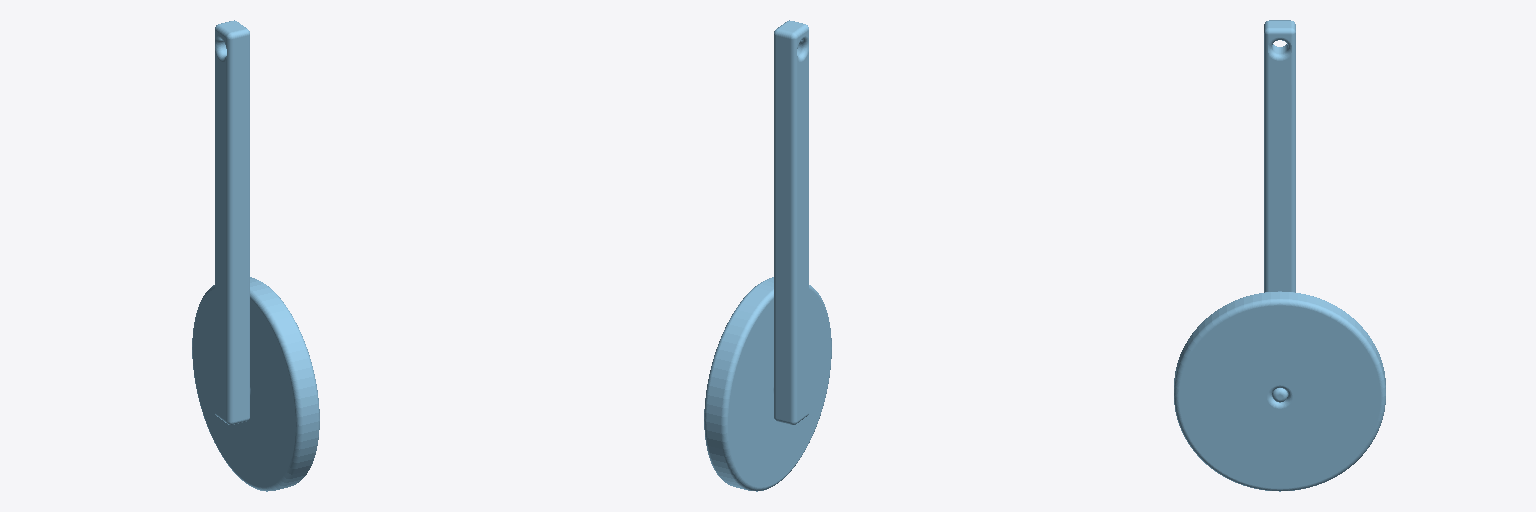
URDF robot description (reaction_wheel_pendulum):
<robot name="reaction_wheel_pendulum">
<link name="support_plaform_1">
<visual>
<origin xyz="-0.085000000000000019984 0.024999999999999994449 -0.020000000000000003886" rpy="-1.3877787807814456755e-16 1.9047944049941415051e-16 0" />
<geometry>
<mesh filename="package://reaction_wheel_pendulum_description/reaction_wheel_pendulum/support_plaform_1.stl"/>
</geometry>
<material name="support_plaform_1_material">
<color rgba="0.61568627450980395466 0.81176470588235294379 0.92941176470588238168 1.0"/>
</material>
</visual>
<collision>
<origin xyz="-0.085000000000000019984 0.024999999999999994449 -0.020000000000000003886" rpy="-1.3877787807814456755e-16 1.9047944049941415051e-16 0" />
<geometry>
<mesh filename="package://reaction_wheel_pendulum_description/reaction_wheel_pendulum/support_plaform_1.stl"/>
</geometry>
</collision>
<inertial>
<origin xyz="-0.084999999999999978351 0.0019366224157372005643 0.20527754982977566844" rpy="0 0 0"/>
<mass value="8.3650792577619803581" />
<inertia ixx="0.18809404056513884251" ixy="6.6429634534729561893e-19"  ixz="-3.3040840509945104842e-17" iyy="0.19768960892502629445" iyz="0.0034874963072423492694" izz="0.014632587595117504606" />
</inertial>
</link>

<link name="cart_pole_line">
<visual>
<origin xyz="0.0050000000000000009714 -0.049999999999999988898 -1.3877787807814456755e-17" rpy="-1.570796326794896558 -1.570796326794896558 0" />
<geometry>
<mesh filename="package://reaction_wheel_pendulum_description/reaction_wheel_pendulum/cart_pole_line.stl"/>
</geometry>
<material name="cart_pole_line_material">
<color rgba="0.61568627450980395466 0.81176470588235294379 0.92941176470588238168 1.0"/>
</material>
</visual>
<collision>
<origin xyz="0.0050000000000000009714 -0.049999999999999988898 -1.3877787807814456755e-17" rpy="-1.570796326794896558 -1.570796326794896558 0" />
<geometry>
<mesh filename="package://reaction_wheel_pendulum_description/reaction_wheel_pendulum/cart_pole_line.stl"/>
</geometry>
</collision>
<inertial>
<origin xyz="-0.99507213325206489429 -0.021216690244781032104 -3.5306212902944823361e-05" rpy="0 0 0"/>
<mass value="17.129471613392958318" />
<inertia ixx="0.010371517126750266768" ixy="-2.2571194222369972551e-05"  ixz="8.5176426230256071983e-06" iyy="5.7133527876254550648" iyz="-5.938288855520099704e-06" izz="5.7091229148612372413" />
</inertial>
</link>

<link name="support_plaform_1_2">
<visual>
<origin xyz="0.0050000000000001154632 -0.48999999999999999112 8.3266726846886740532e-17" rpy="-1.570796326794896558 -1.570796326794896558 0" />
<geometry>
<mesh filename="package://reaction_wheel_pendulum_description/reaction_wheel_pendulum/support_plaform_1.stl"/>
</geometry>
<material name="support_plaform_1_material">
<color rgba="0.61568627450980395466 0.81176470588235294379 0.92941176470588238168 1.0"/>
</material>
</visual>
<collision>
<origin xyz="0.0050000000000001154632 -0.48999999999999999112 8.3266726846886740532e-17" rpy="-1.570796326794896558 -1.570796326794896558 0" />
<geometry>
<mesh filename="package://reaction_wheel_pendulum_description/reaction_wheel_pendulum/support_plaform_1.stl"/>
</geometry>
</collision>
<inertial>
<origin xyz="-0.018063377584262709646 -0.26472245017022433267 7.9318860187151341436e-17" rpy="0 0 0"/>
<mass value="8.3650792577619803581" />
<inertia ixx="0.19768960892502629445" ixy="0.0034874963072423744229"  ixz="6.584292432897078411e-49" iyy="0.014632587595117504606" iyz="5.4275303833731067647e-51" izz="0.18809404056513884251" />
</inertial>
</link>

<joint name="fastened 3" type="fixed">
<origin xyz="-1.9899999999999999911 5.5511151231257827021e-17 0" rpy="3.141592653589793116 2.6434332570020888873e-32 3.141592653589793116" />
<parent link="cart_pole_line" />
<child link="support_plaform_1_2" />
<axis xyz="0 0 1"/>
<limit effort="1" velocity="20" />
<joint_properties friction="0.0"/>
</joint>

<link name="cart_move">
<visual>
<origin xyz="-0.075000000000000066613 -0.049999999999999988898 0.049999999999999988898" rpy="3.141592653589793116 -3.0839528461809912666e-16 2.5386489872101804252e-48" />
<geometry>
<mesh filename="package://reaction_wheel_pendulum_description/reaction_wheel_pendulum/cart_move.stl"/>
</geometry>
<material name="cart_move_material">
<color rgba="0.61568627450980395466 0.81176470588235294379 0.92941176470588238168 1.0"/>
</material>
</visual>
<collision>
<origin xyz="-0.075000000000000066613 -0.049999999999999988898 0.049999999999999988898" rpy="3.141592653589793116 -3.0839528461809912666e-16 2.5386489872101804252e-48" />
<geometry>
<mesh filename="package://reaction_wheel_pendulum_description/reaction_wheel_pendulum/cart_move.stl"/>
</geometry>
</collision>
<inertial>
<origin xyz="-5.5511151231257827021e-17 -0.00061948576139277816699 -0.010074243351339003116" rpy="0 0 0"/>
<mass value="2.7582989593438584919" />
<inertia ixx="0.0051071794741707502926" ixy="-5.308756805655342459e-21"  ixz="-8.7459673115728478719e-19" iyy="0.0072884337806232426735" iyz="1.7214130923659983201e-05" izz="0.007943139603199119228" />
</inertial>
</link>

<link name="cart_swinger">
<visual>
<origin xyz="1.1102230246251565404e-16 -0.38000000000000000444 -0.020000000000000000416" rpy="-1.570796326794896558 -2.5386489872101804252e-48 0" />
<geometry>
<mesh filename="package://reaction_wheel_pendulum_description/reaction_wheel_pendulum/cart_swinger.stl"/>
</geometry>
<material name="cart_swinger_material">
<color rgba="0.61568627450980395466 0.81176470588235294379 0.92941176470588238168 1.0"/>
</material>
</visual>
<collision>
<origin xyz="1.1102230246251565404e-16 -0.38000000000000000444 -0.020000000000000000416" rpy="-1.570796326794896558 -2.5386489872101804252e-48 0" />
<geometry>
<mesh filename="package://reaction_wheel_pendulum_description/reaction_wheel_pendulum/cart_swinger.stl"/>
</geometry>
</collision>
<inertial>
<origin xyz="-2.9431130203074004107e-08 -0.18572699235086756464 -0.0078668877937311809667" rpy="0 0 0"/>
<mass value="0.78268947954770595743" />
<inertia ixx="0.010314898108551727798" ixy="3.5124269531667310023e-10"  ixz="-3.2163942471924808674e-10" iyy="0.00010133443893613864554" iyz="-4.7170147553069125598e-05" izz="0.010325356775302408155" />
</inertial>
</link>

<link name="reaction_wheel">
<visual>
<origin xyz="0 0 -0.0050000000000000009714" rpy="-1.570796326794896558 -2.5386489872101804252e-48 -1.1641176552740606138e-32" />
<geometry>
<mesh filename="package://reaction_wheel_pendulum_description/reaction_wheel_pendulum/reaction_wheel.stl"/>
</geometry>
<material name="reaction_wheel_material">
<color rgba="0.61568627450980395466 0.81176470588235294379 0.92941176470588238168 1.0"/>
</material>
</visual>
<collision>
<origin xyz="0 0 -0.0050000000000000009714" rpy="-1.570796326794896558 -2.5386489872101804252e-48 -1.1641176552740606138e-32" />
<geometry>
<mesh filename="package://reaction_wheel_pendulum_description/reaction_wheel_pendulum/reaction_wheel.stl"/>
</geometry>
</collision>
<inertial>
<origin xyz="3.4484178418909866697e-18 8.1990635265255325465e-18 0.0074999999999999988551" rpy="0 0 0"/>
<mass value="2.0890783967314723313" />
<inertia ixx="0.0053204580946412160028" ixy="-1.0691058840368782585e-50"  ixz="-1.7096428796103872258e-50" iyy="0.0053204580946412151354" iyz="3.5786703182146273562e-35" izz="0.010426371086025272225" />
</inertial>
</link>

<joint name="continuous_revolute 2" type="continuous">
<origin xyz="1.1102230246251565404e-16 -0.35000000000000003331 -0.024999999999999994449" rpy="3.141592653589793116 -6.1629758220391519929e-33 3.141592653589793116" />
<parent link="cart_swinger" />
<child link="reaction_wheel" />
<axis xyz="0 0 1"/>
<limit effort="1" velocity="20" />
<joint_properties friction="0.0"/>
</joint>

<joint name="continuous_revolute 1" type="continuous">
<origin xyz="0 -0.064682458365518544219 5.5511151231257827021e-17" rpy="-1.570796326794896558 -3.0839528461809912666e-16 2.5386489872101804252e-48" />
<parent link="cart_move" />
<child link="cart_swinger" />
<axis xyz="0 0 1"/>
<limit effort="1" velocity="20" />
<joint_properties friction="0.0"/>
</joint>

<joint name="fastened 4" type="fixed">
<origin xyz="-0.99500000000000010658 0 0" rpy="-1.570796326794896558 -1.4937495864964432488e-33 3.141592653589793116" />
<parent link="cart_pole_line" />
<child link="cart_move" />
<axis xyz="0 0 1"/>
<limit effort="1" velocity="20" />
<joint_properties friction="0.0"/>
</joint>

<joint name="fastened 2" type="fixed">
<origin xyz="-0.085000000000000019984 0.020000000000000055927 0.46999999999999997335" rpy="1.57079632679489678 1.3877787807814456755e-16 1.570796326794896558" />
<parent link="support_plaform_1" />
<child link="cart_pole_line" />
<axis xyz="0 0 1"/>
<limit effort="1" velocity="20" />
<joint_properties friction="0.0"/>
</joint>


</robot>

--- What the picture shows (computed from the rendered views, not written in the file) ---
3 views of the same robot in one strip: view 1: azimuth 30°, elevation 25°; view 2: azimuth 150°, elevation 25°; view 3: azimuth 270°, elevation 25° (orthographic).
Model reaction_wheel_pendulum with 6 links and 5 joints (2 continuous, 3 fixed), rooted at support_plaform_1, posed all joints at 0.
Visible links, largest first — view 1: reaction_wheel, cart_swinger; view 2: reaction_wheel, cart_swinger; view 3: reaction_wheel, cart_swinger.
Boxes of the visible links, x1,y1,x2,y2 form: reaction_wheel: (192,277,319,491); cart_swinger: (215,20,249,424); reaction_wheel: (704,277,831,491); cart_swinger: (774,20,808,424); reaction_wheel: (1174,291,1385,491); cart_swinger: (1264,20,1295,402).
Size in the robot's own frame: 0.05 by 0.2 by 0.47 metres.
Meshes: 5 distinct files referenced, 2 mesh visuals loaded (2 binary STL); not drawn: 4 (reference not matched to a file when rendering).